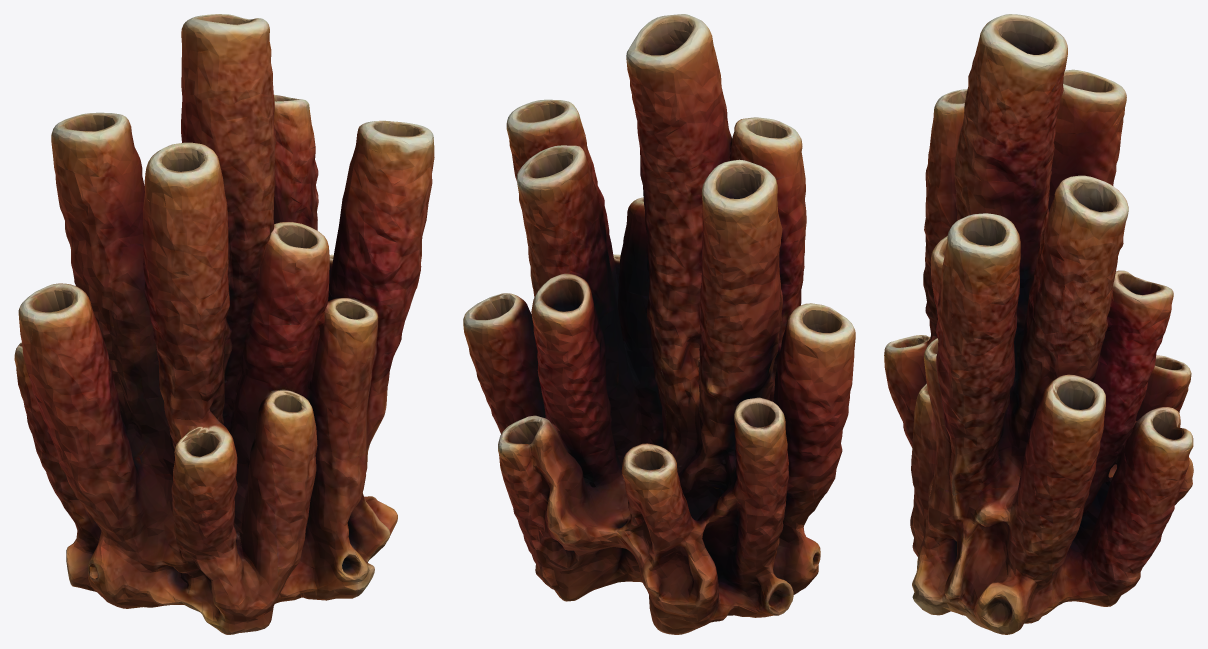
3 views of the same model, side by side, from view 1: azimuth 30°, elevation 25°; view 2: azimuth 150°, elevation 25°; view 3: azimuth 270°, elevation 25° (orthographic). The views are drawn at different scales.
Visible parts, largest first — view 1: geometry_0; view 2: geometry_0; view 3: geometry_0.
Part boxes in pixels (x1,y1,x2,y2): geometry_0: (14, 14, 434, 634); geometry_0: (463, 14, 855, 634); geometry_0: (884, 14, 1193, 634).
Bounding box in the file's own units: 0.682 × 0.9994 × 0.5021.
1 material, 1 textured.
